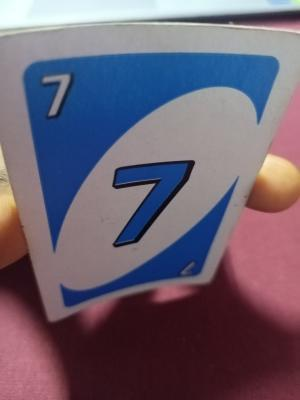blue: (26, 54, 212, 278)
num_7: (38, 67, 77, 122), (167, 258, 204, 279)
